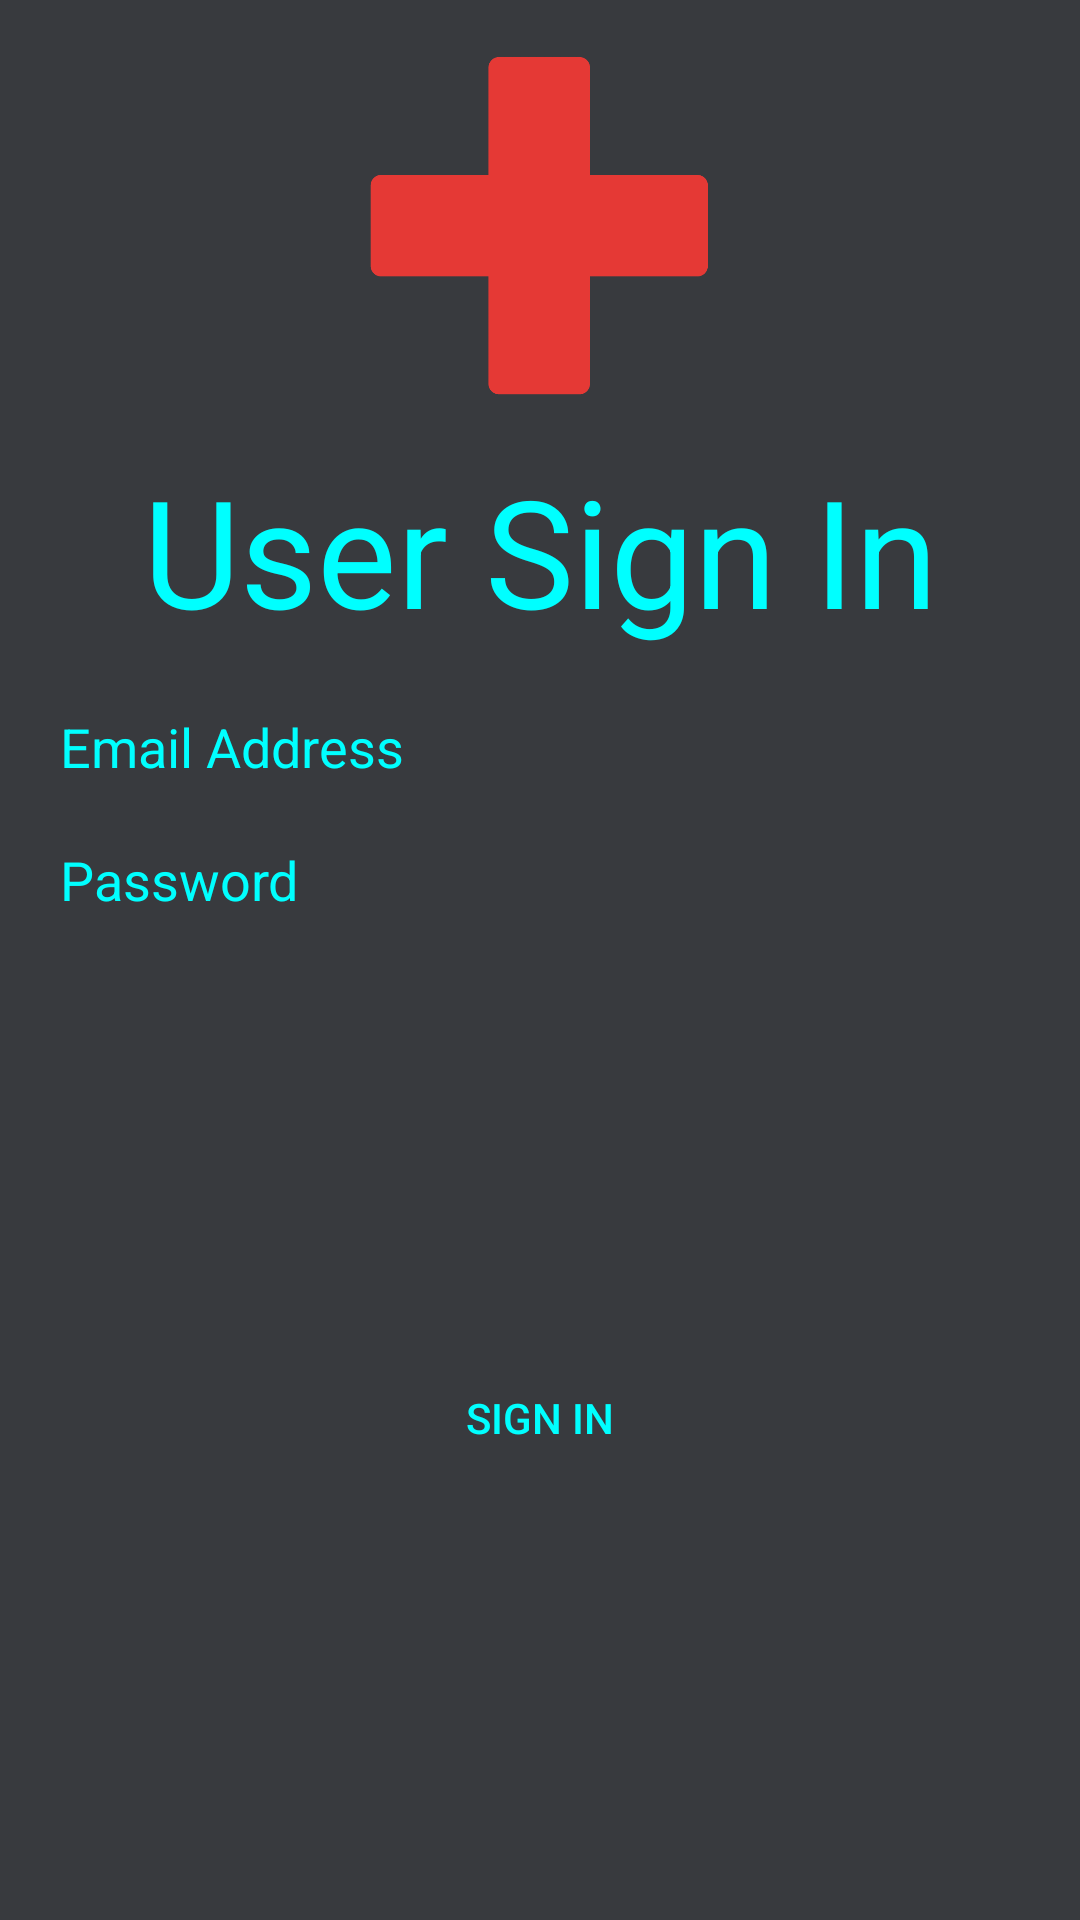

Locate icon controls on the screen. Image size 1080px x 1920px, boxes as (x1, y1, x2, y2).
hospital: (370, 57, 708, 395)
